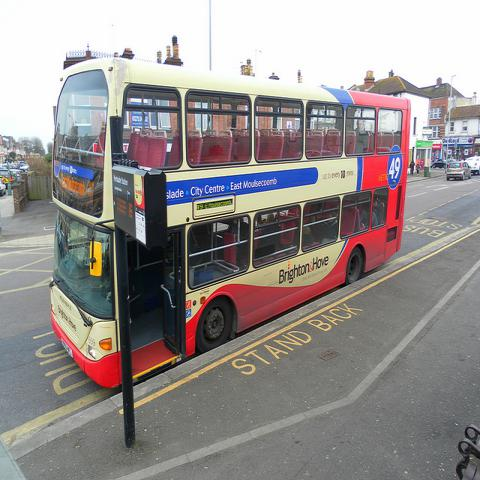bus: (50, 59, 410, 390)
car: (446, 161, 472, 181), (0, 169, 16, 189), (466, 156, 479, 177), (432, 158, 446, 170), (11, 169, 23, 180), (0, 184, 6, 196), (445, 159, 457, 165)
